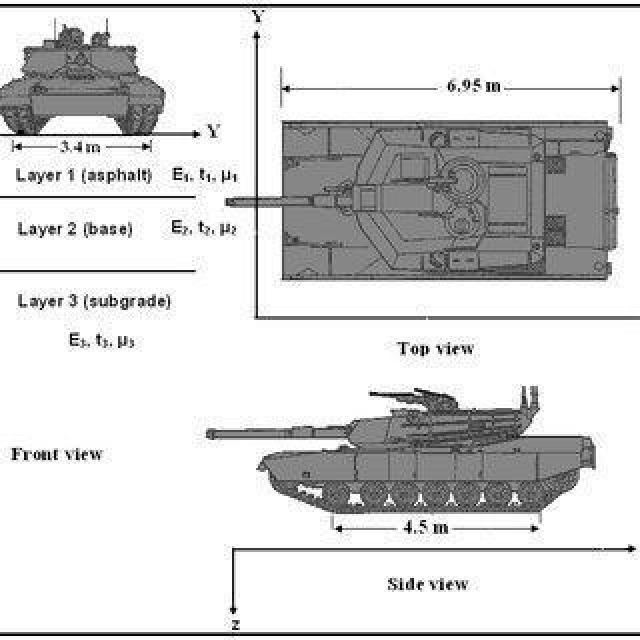Tanks: (201, 367, 573, 527), (272, 112, 568, 284), (4, 18, 168, 134)
